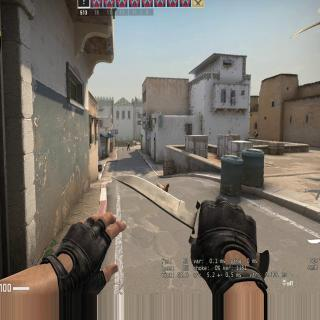CT-Body: (253, 131, 257, 139), (126, 142, 130, 150)
CT-Head: (254, 131, 256, 133), (128, 142, 128, 144)
